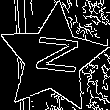N_W: (26, 36, 80, 82)
